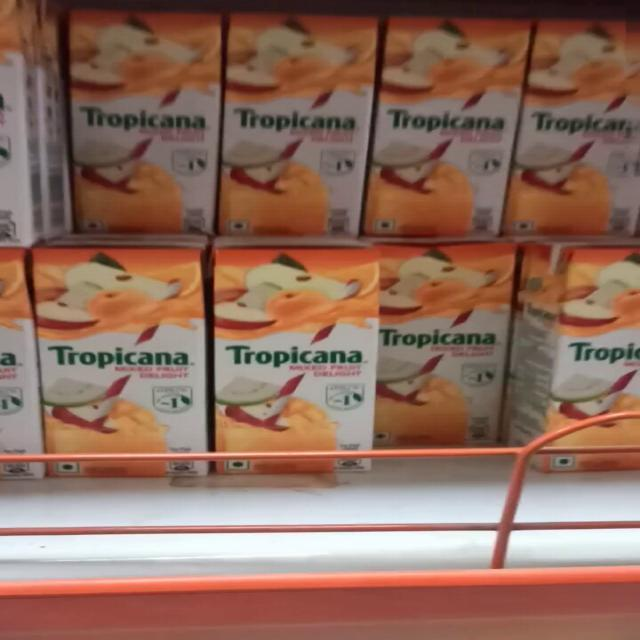Tropicana: (28, 238, 209, 491), (222, 239, 386, 486), (57, 2, 219, 222), (224, 0, 381, 221), (392, 0, 531, 231)
